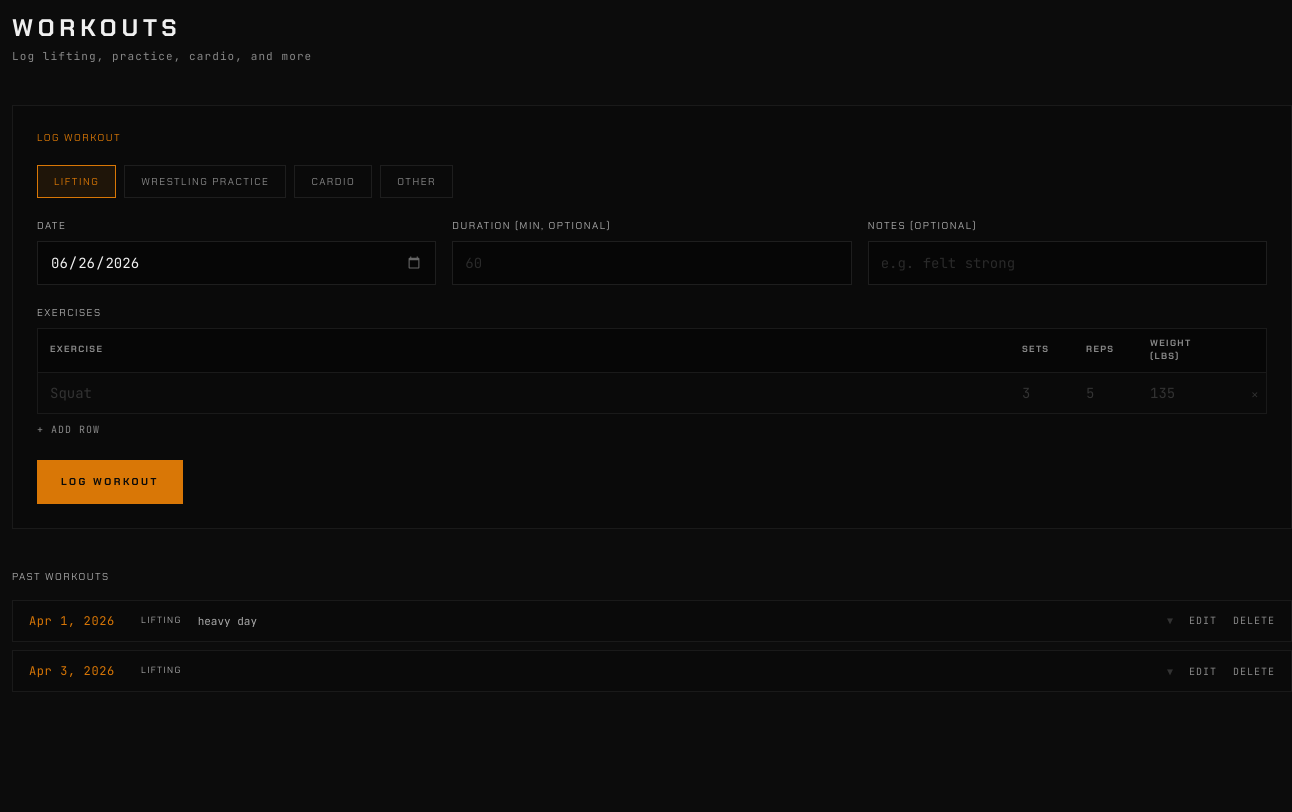
Test: Workouts › validation — requires at least one exercise with a name
This screenshot has width=1292, height=812.
Expected: the heading "WORKOUTS" is shown, [12,12,181,43]
// Submit with empty exercise row
Click the button "LOG WORKOUT". click: point(110, 482)
box: [37,460,183,504]
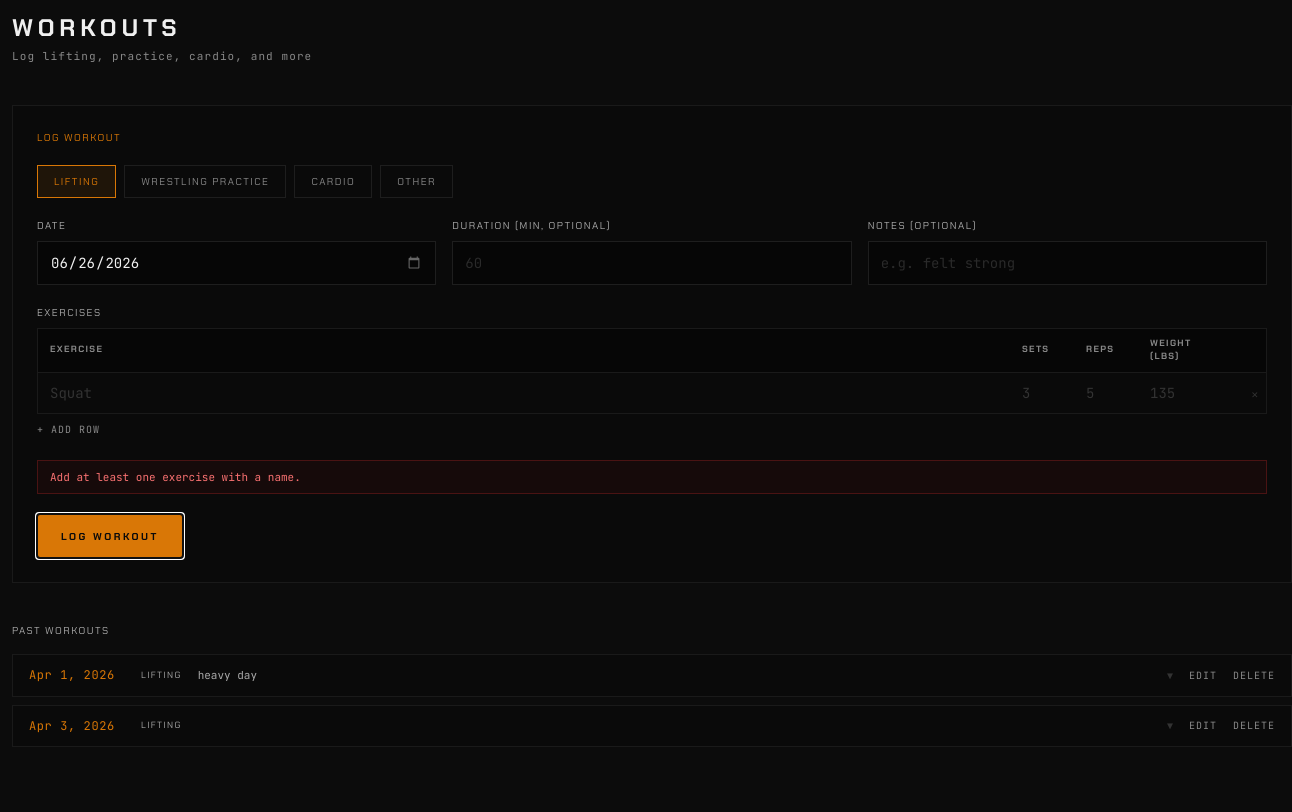
Expected: the text "Add at least one exercise with a name." is shown, [37,460,1267,494]
